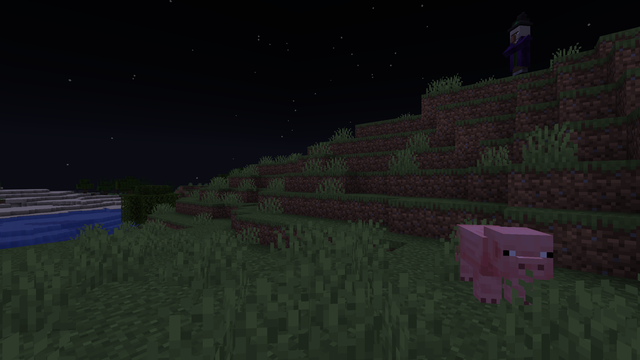cochons: (449, 222, 530, 312)
sorcieres: (510, 21, 528, 77)
